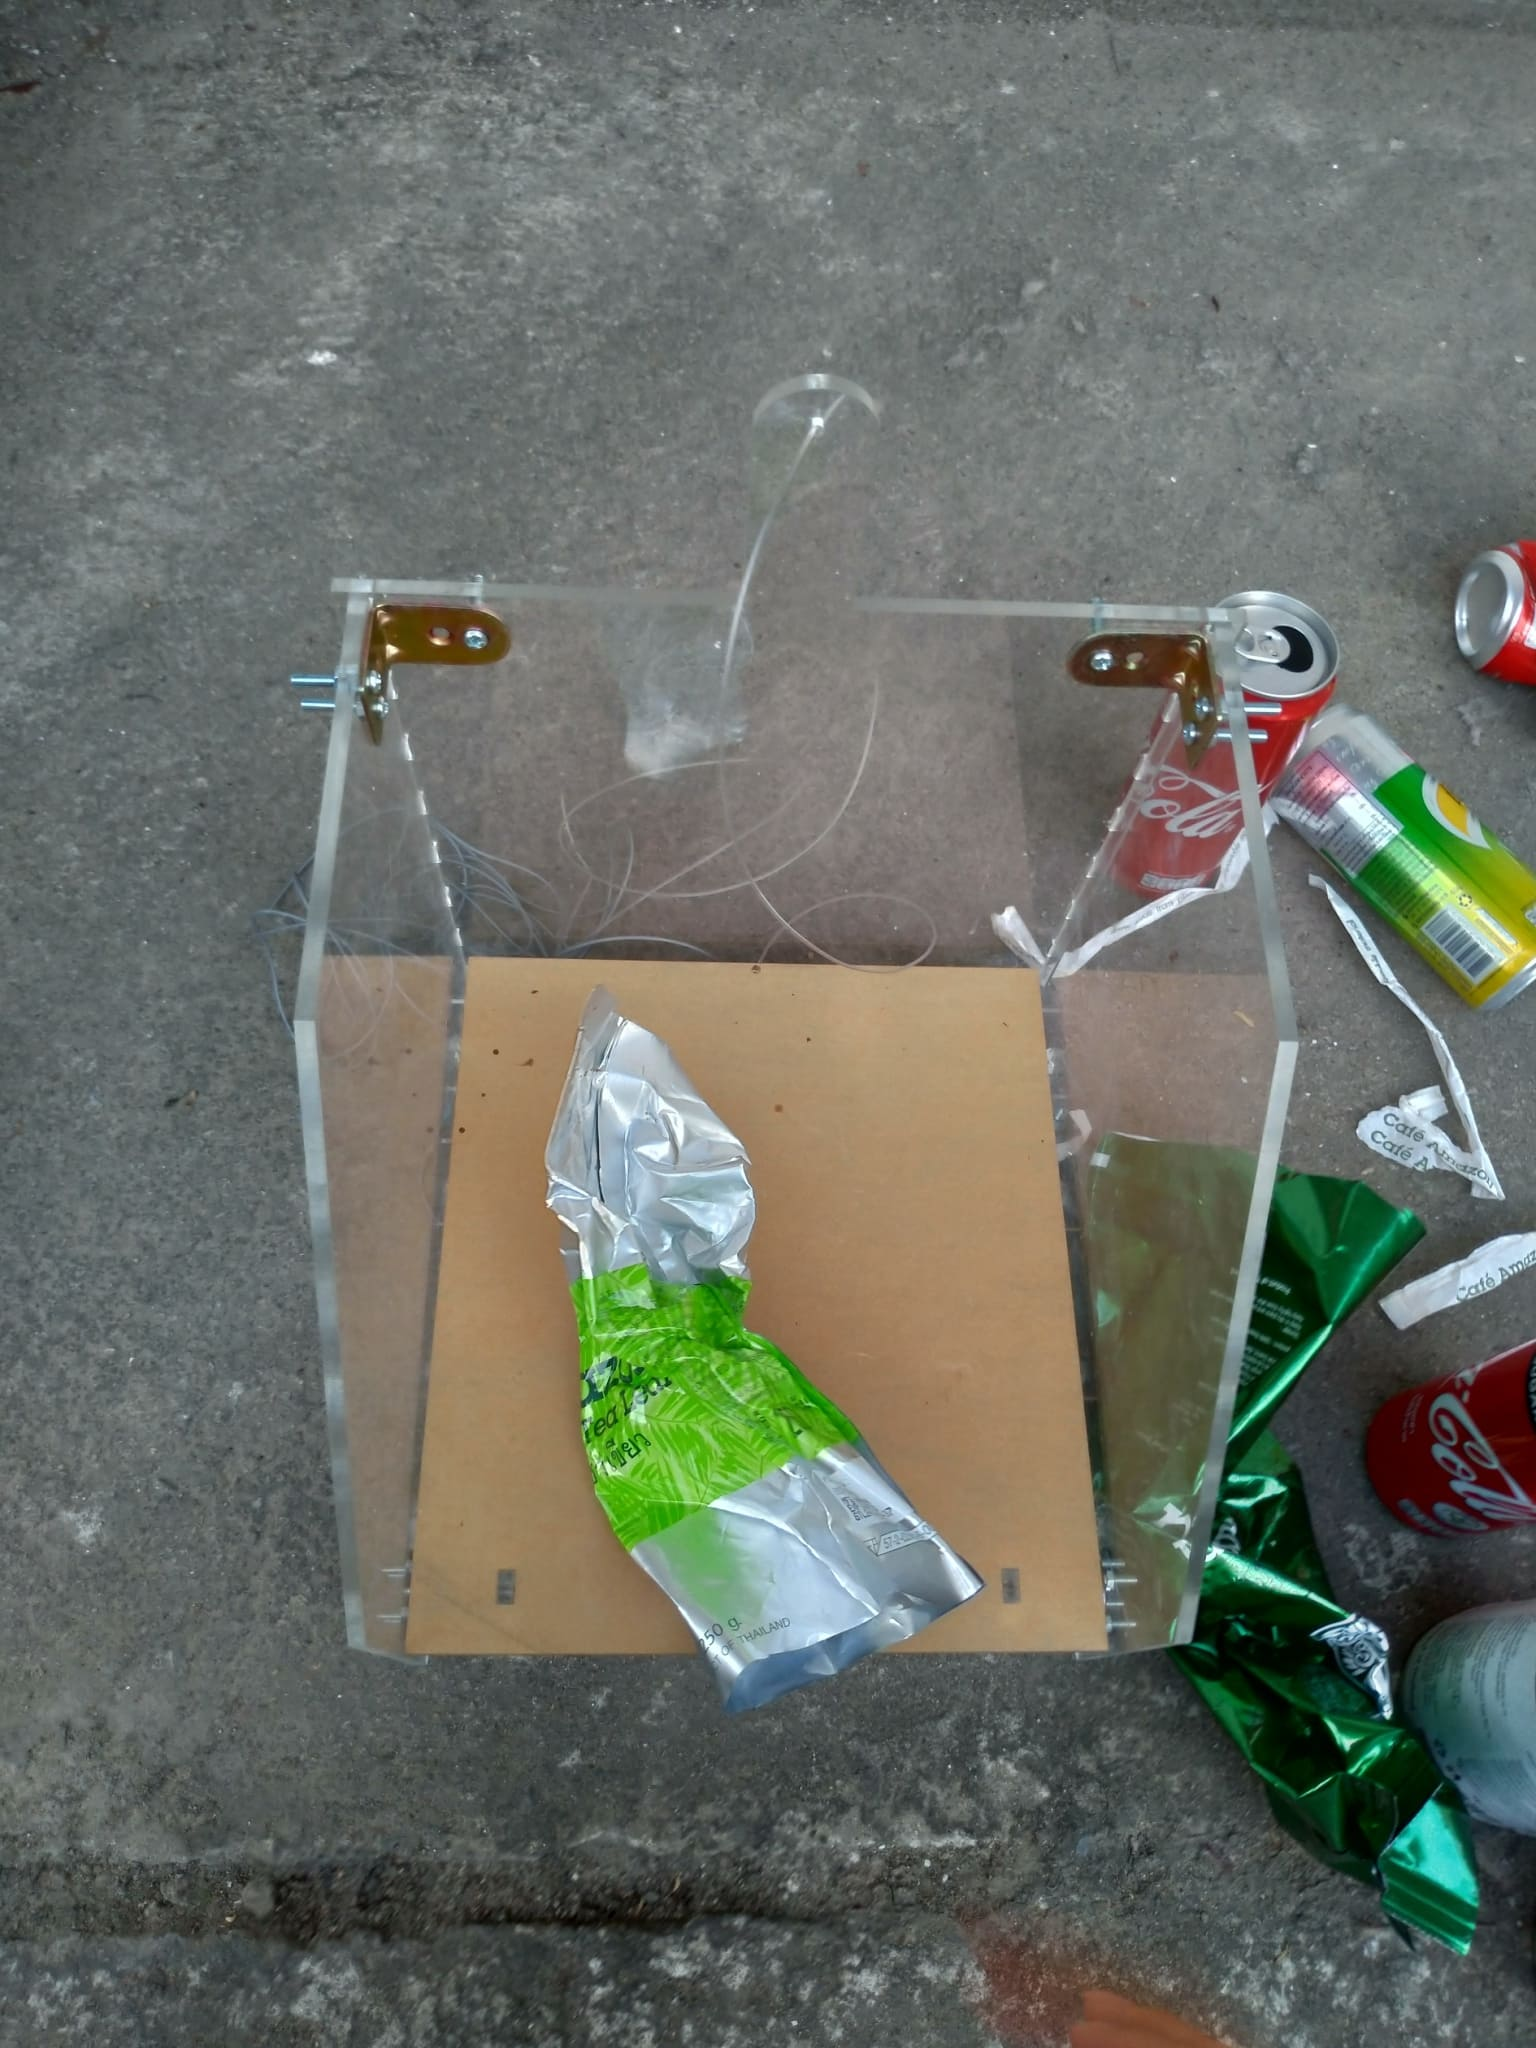AlCan: (1283, 718, 1536, 1016), (1120, 589, 1329, 905), (1368, 1330, 1530, 1545)
Others: (541, 984, 991, 1714), (1091, 1122, 1480, 1961)
